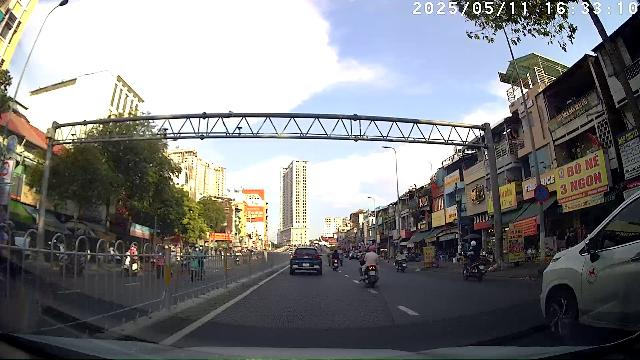130-cam-dung-va-do-xe: (534, 184, 550, 202)
